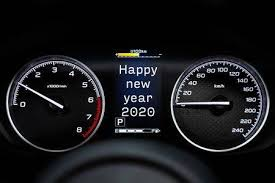Digital_Meter: (115, 55, 162, 132)
